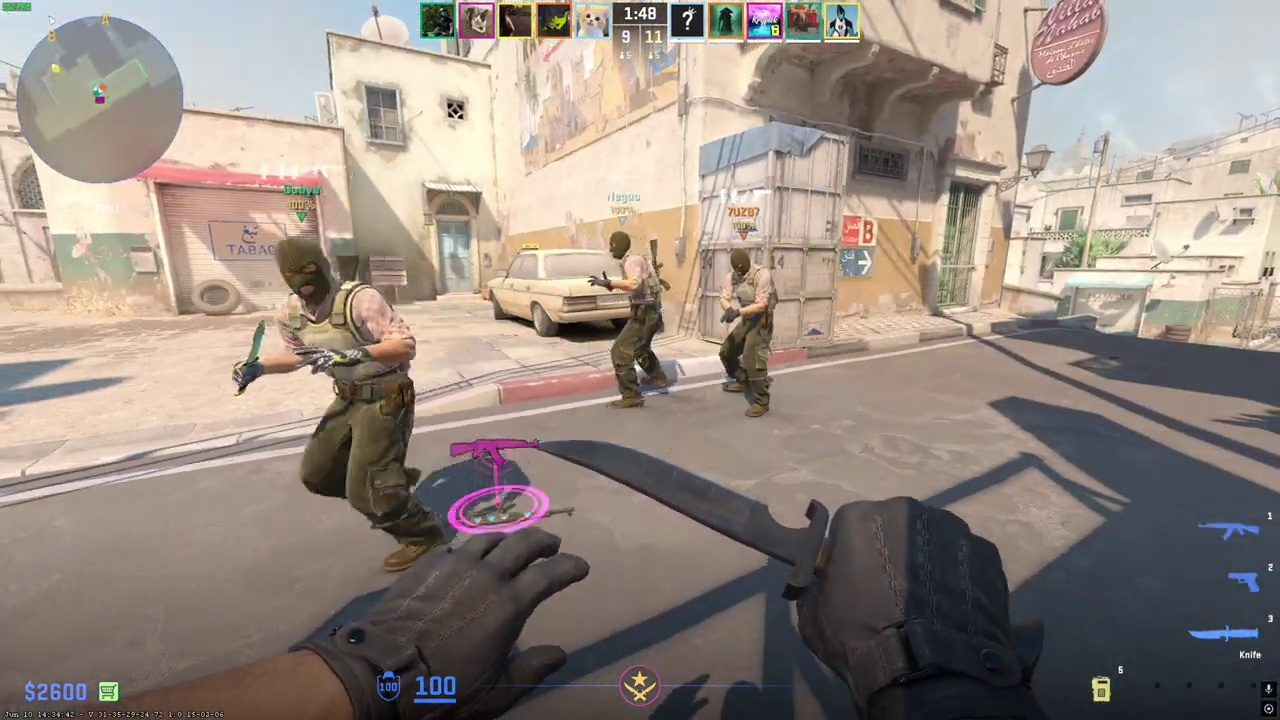Terrorist: (267, 237, 434, 574), (598, 233, 671, 409), (712, 247, 785, 418)
